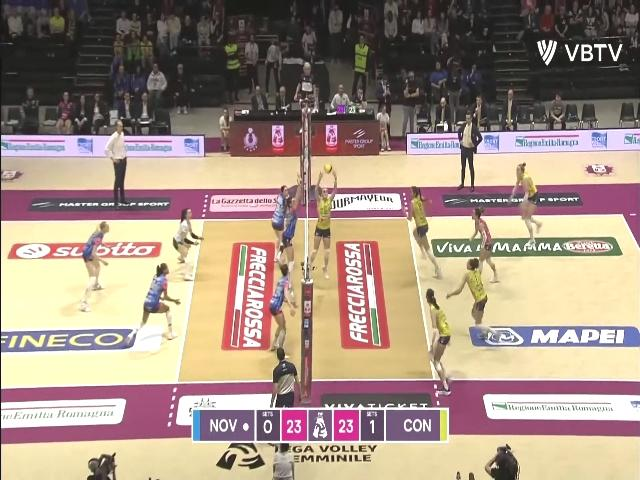volleyball court: (1, 214, 638, 387)
